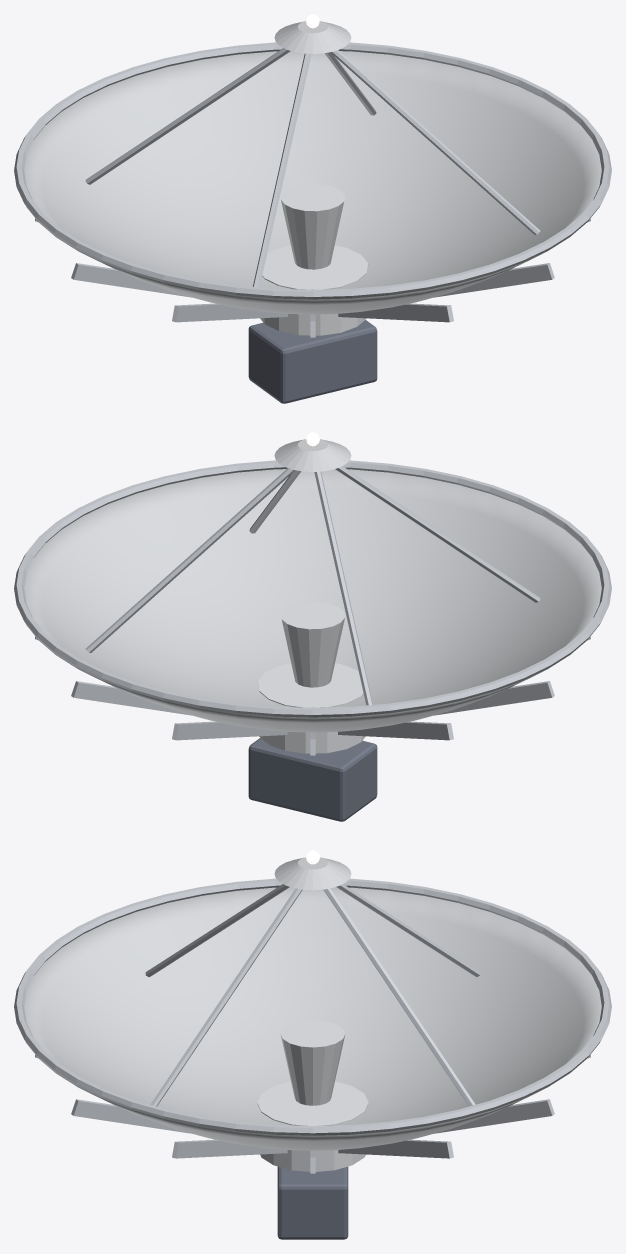
The model's file is dish__head.fbx.
3 renders of one model, top to bottom at view 1: azimuth 30°, elevation 25°; view 2: azimuth 150°, elevation 25°; view 3: azimuth 270°, elevation 25°, orthographic.
Parts seen in each view (by area): view 1: dish__head; view 2: dish__head; view 3: dish__head.
Part boxes in pixels (box(x1,y1,x2,y2)): dish__head: box(14, 14, 611, 403); dish__head: box(14, 432, 611, 821); dish__head: box(14, 850, 611, 1239).
Size of the model in its own units: 5.9 by 3.99 by 5.9.
